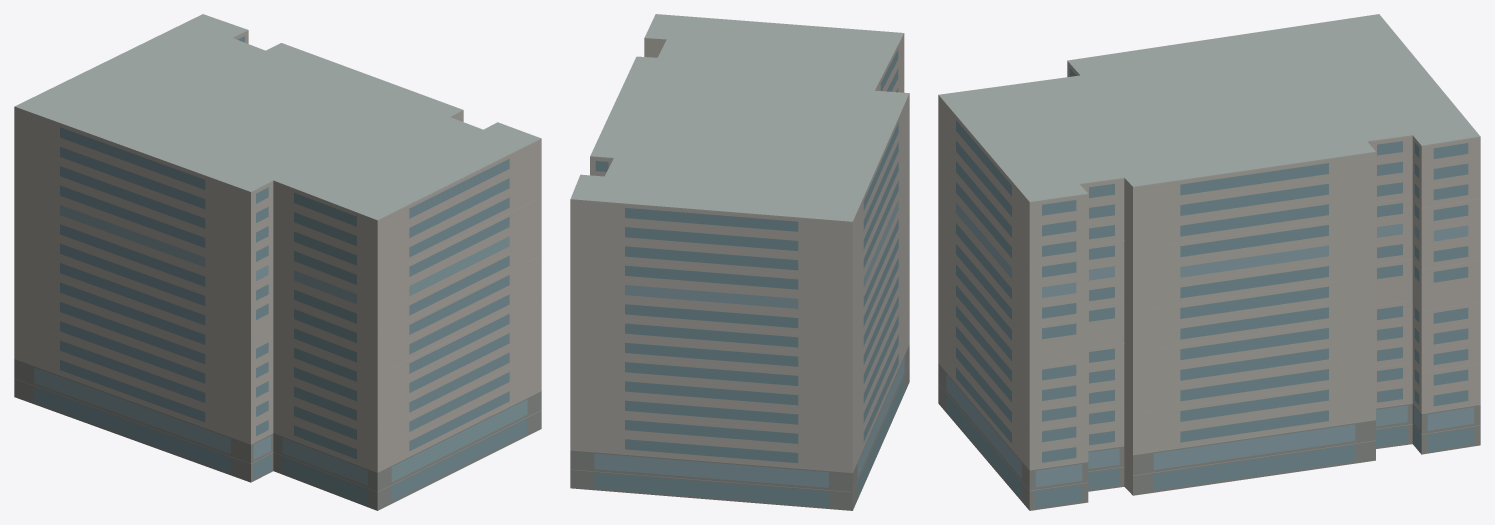
Rendered from survey-upis-32765546.glb.
The picture shows the model from 3 angles, left to right: view 1: azimuth 30°, elevation 25°; view 2: azimuth 150°, elevation 25°; view 3: azimuth 270°, elevation 25°; orthographic projection. The views are drawn at different scales.
Visible parts, largest first — view 1: survey-upis-32765546.tmp; view 2: survey-upis-32765546.tmp; view 3: survey-upis-32765546.tmp.
Boxes of the visible parts, x1,y1,x2,y2 form: survey-upis-32765546.tmp: [14, 14, 541, 510]; survey-upis-32765546.tmp: [570, 14, 909, 510]; survey-upis-32765546.tmp: [938, 14, 1480, 510].
Bounding box in the file's own units: 92.19 × 70.6 × 112.
